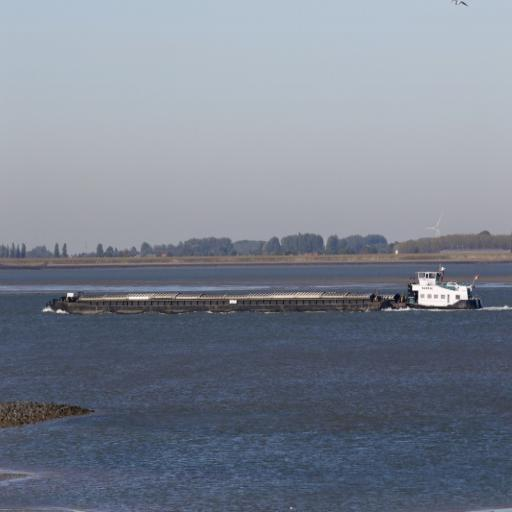tugboat: (386, 260, 488, 323)
